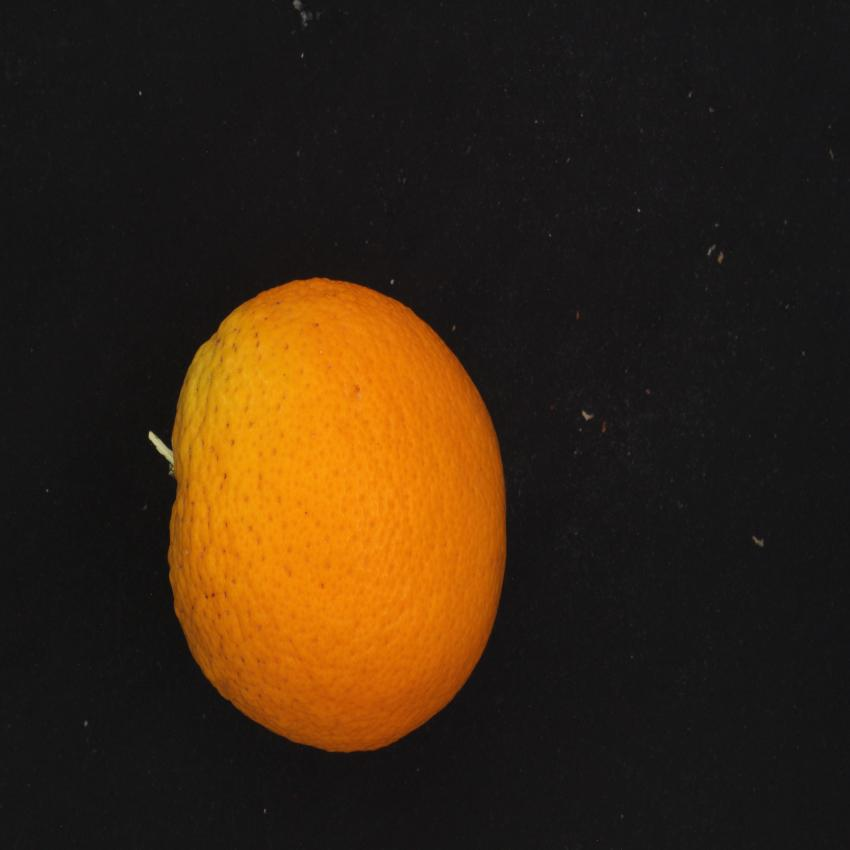Buen estado: (156, 267, 524, 765)
